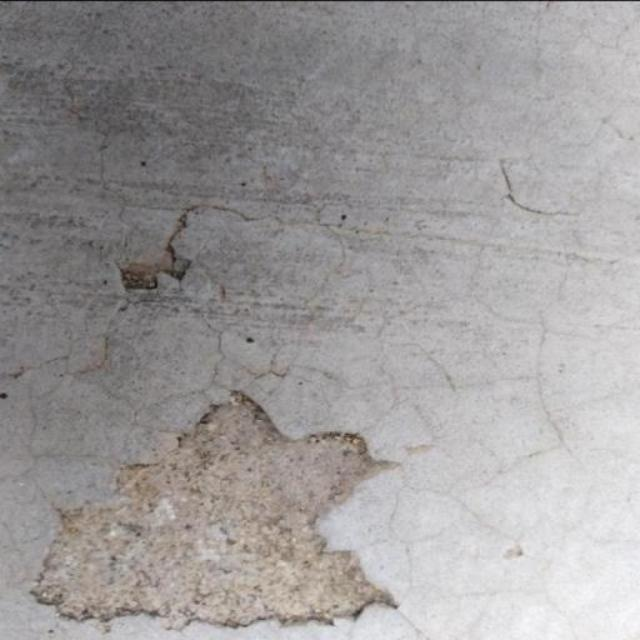D10: (30, 390, 397, 628)
